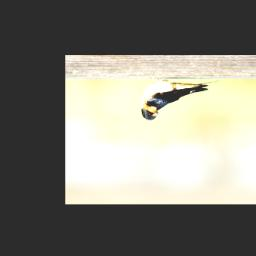Swallow: (140, 76, 221, 121)
